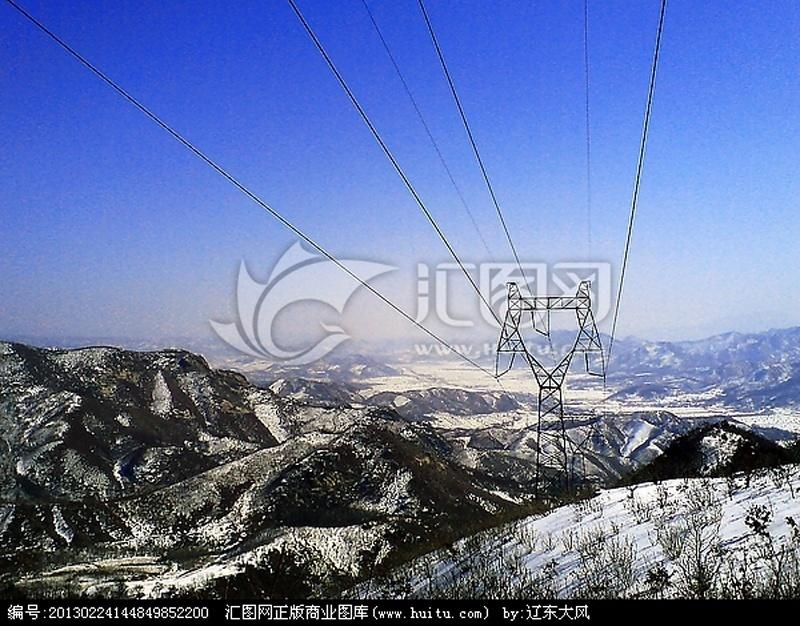power_tower: (492, 248, 604, 495)
